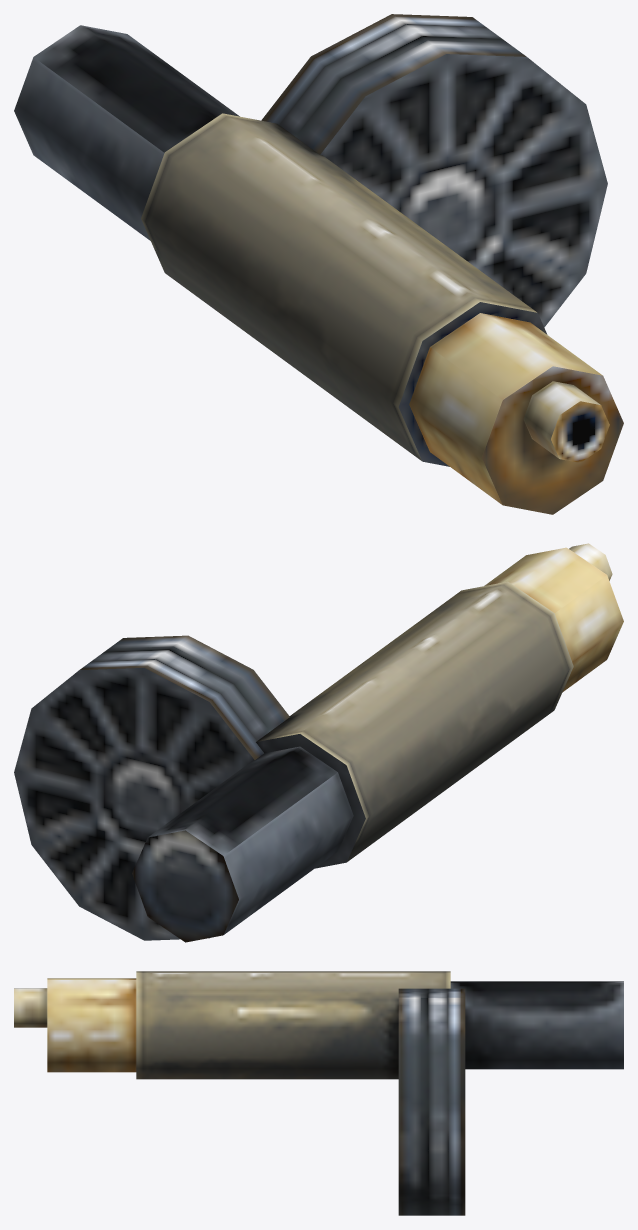
Rendered from cannon.fbx.
3 renders of one model, top to bottom at view 1: azimuth 30°, elevation 25°; view 2: azimuth 150°, elevation 25°; view 3: azimuth 270°, elevation 25°, orthographic. The views are drawn at different scales.
Visible parts, largest first — view 1: Cannon; view 2: Cannon; view 3: Cannon.
Part boxes in pixels (x1=…): Cannon: x1=14, y1=14, x2=623, y2=514; Cannon: x1=14, y1=543, x2=623, y2=942; Cannon: x1=14, y1=971, x2=623, y2=1215.
Bounding box in the file's own units: 190 × 145 × 388.
Materials: 1 (1 with a texture image).
